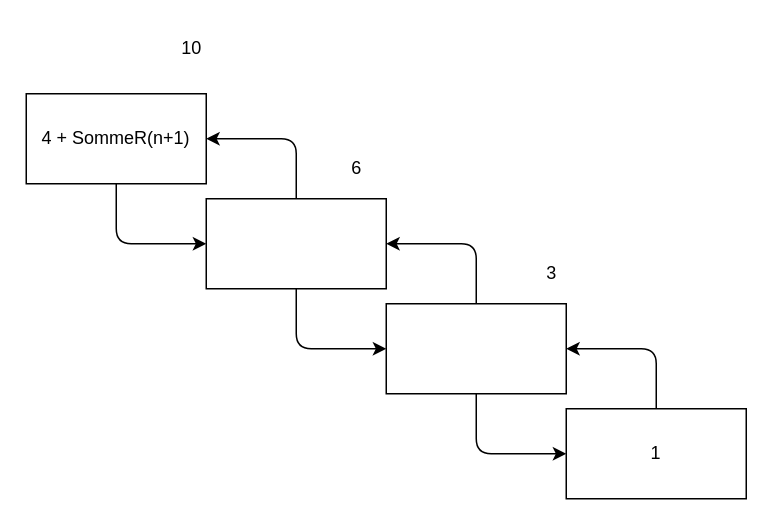
The diagram is 773 pixels wide and 525 high, and some of its shapes have lost their labels. The centre of each missing label's shape, as x and y in pixels:
"2 + SommeR(n - 1)" belongs at point (475, 348).
"3 + SommeR(n-1)" belongs at point (295, 243).
